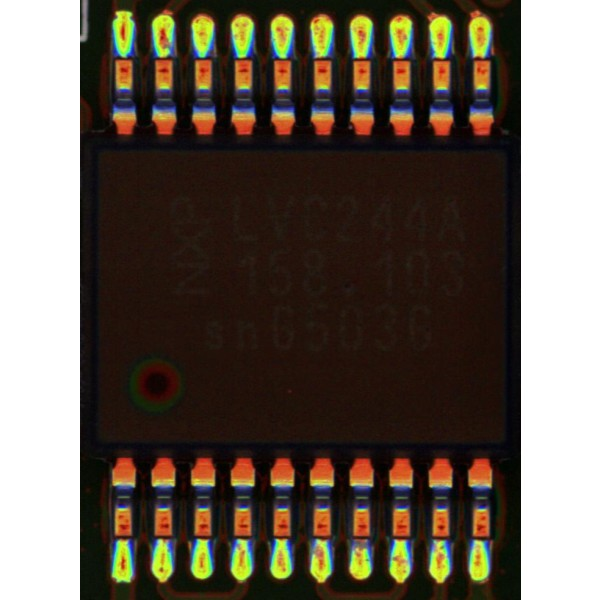Bad_podu: (355, 527, 368, 555)
